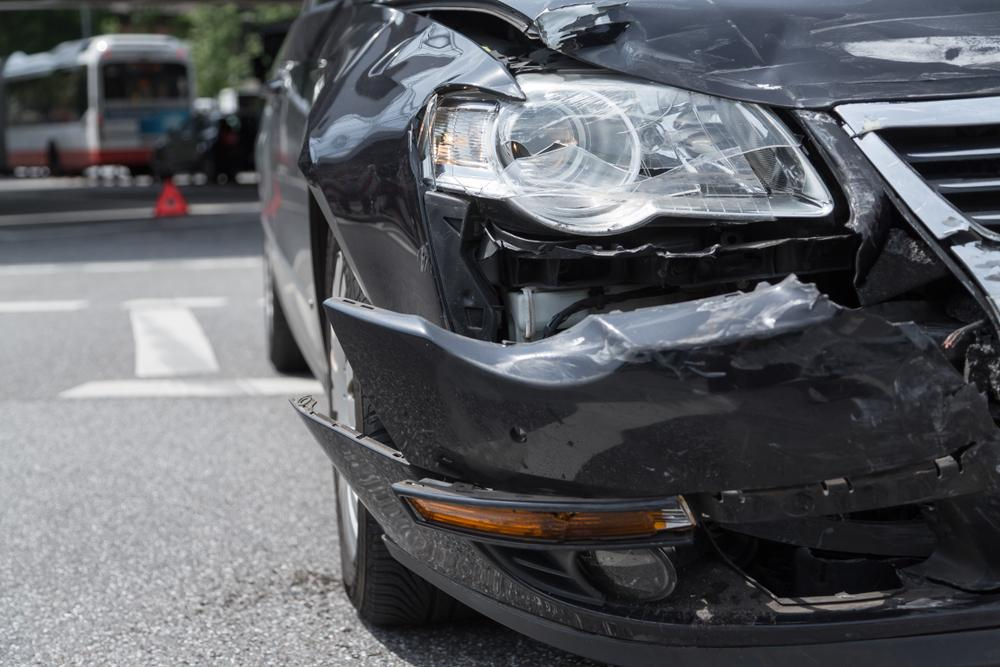crack: (897, 570, 1000, 596)
dent: (309, 16, 508, 311), (536, 0, 1000, 104)
lamp broken: (403, 71, 836, 233)
scratch: (581, 291, 964, 438)
